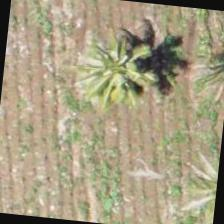Kelapa_Sawit: (76, 28, 175, 126), (165, 135, 221, 223)
